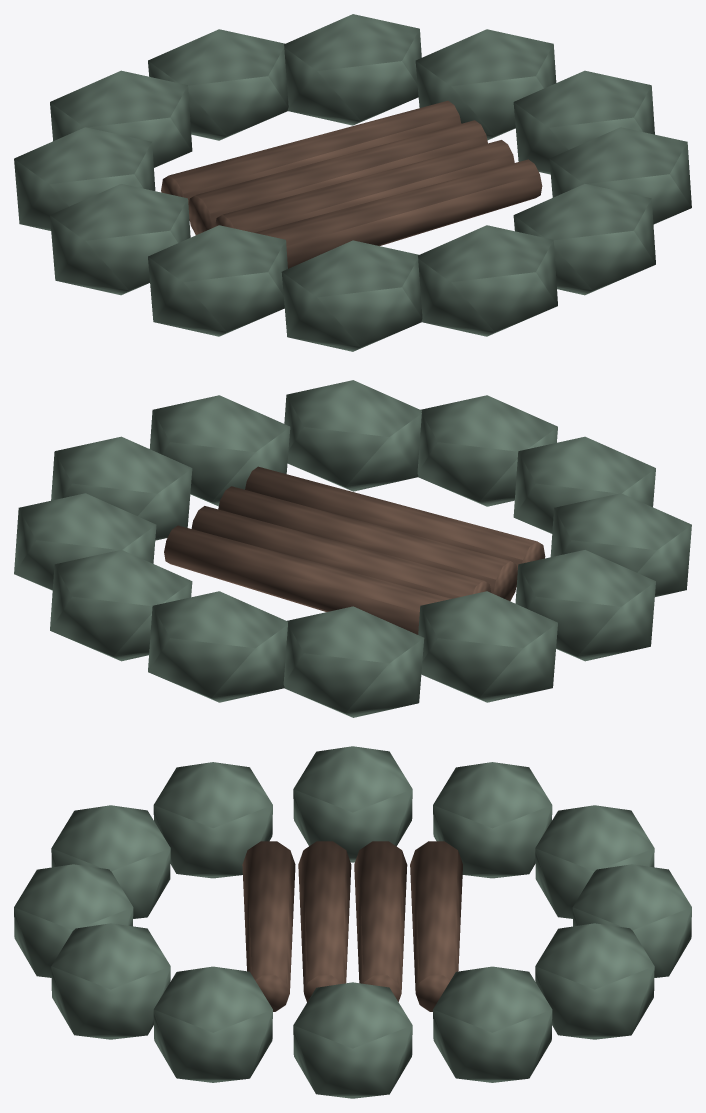
File: fire_ring.glb
3 renders of one model, top to bottom at view 1: azimuth 30°, elevation 25°; view 2: azimuth 150°, elevation 25°; view 3: azimuth 270°, elevation 25°, orthographic. The views are drawn at different scales.
Parts seen in each view (by area): view 1: fire_ring.001; view 2: fire_ring.001; view 3: fire_ring.001.
Boxes of the visible parts, box(x1,y1,x2,y2) form: fire_ring.001: box(14, 14, 691, 351); fire_ring.001: box(14, 380, 691, 717); fire_ring.001: box(14, 746, 691, 1098).
Bounding box in the file's own units: 2.57 × 0.46 × 2.43.
Materials: 1 (1 with a texture image).
